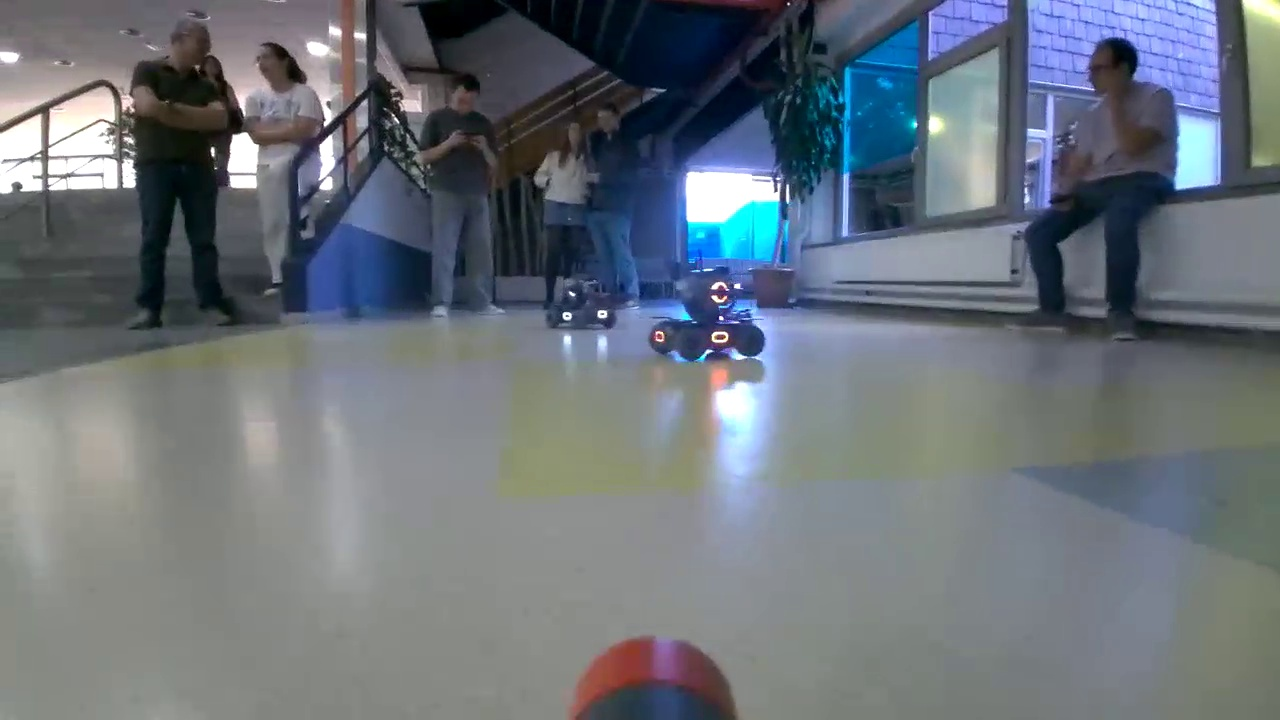robot: (652, 276, 766, 362), (546, 274, 618, 332)
